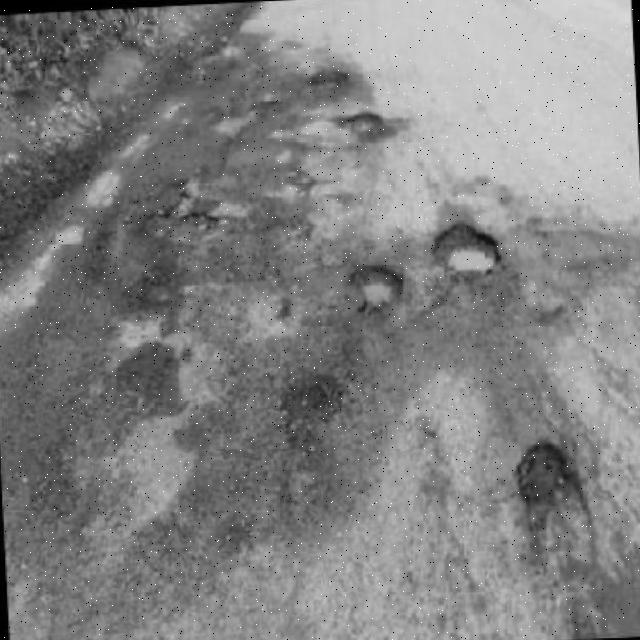pothole: (513, 443, 569, 525), (433, 223, 501, 283), (144, 198, 221, 243), (348, 265, 400, 313), (334, 111, 389, 138)
